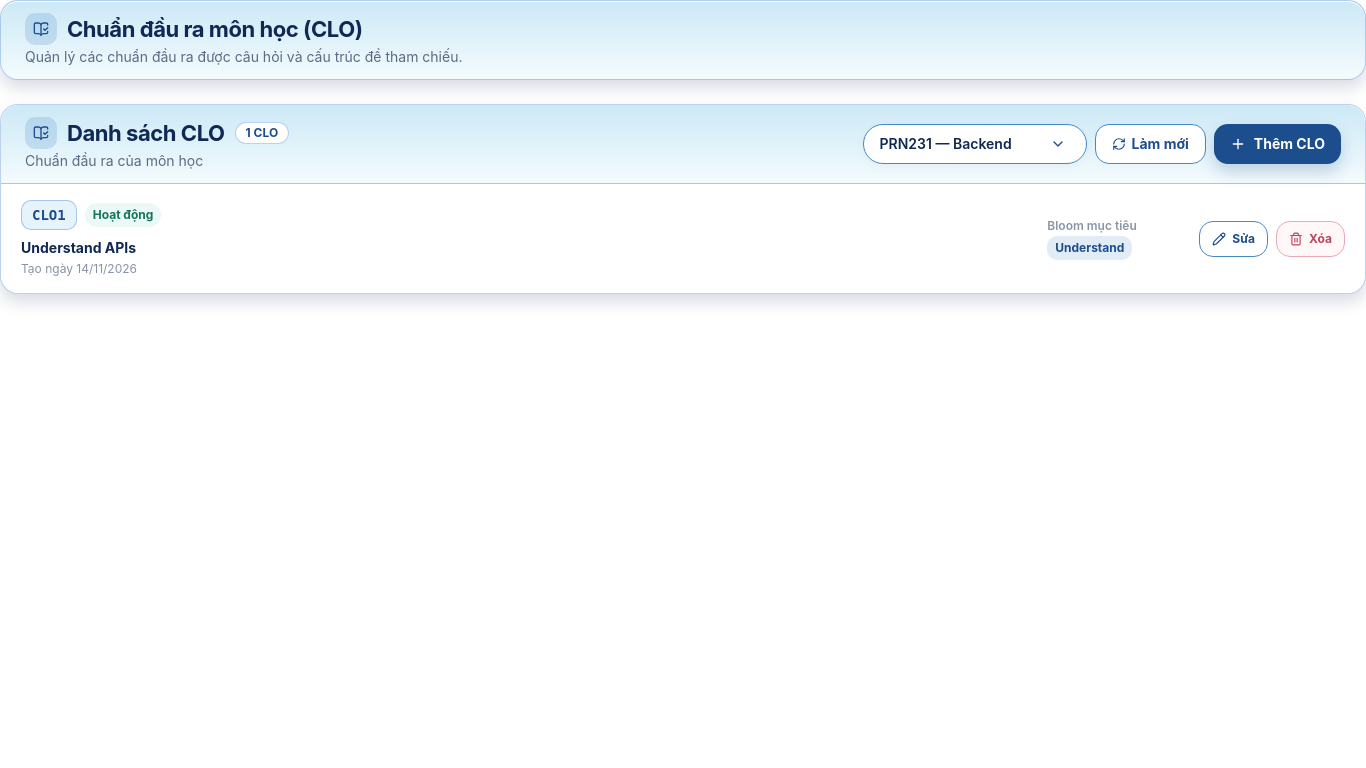
Test case: DepartmentCourseClosPage › rejects a case-insensitive duplicate before sending a request
Expected: the text "Understand APIs" is shown, [21,239,136,256]
Click the button "Thêm CLO": (1277, 144) [1214,124,1341,164]
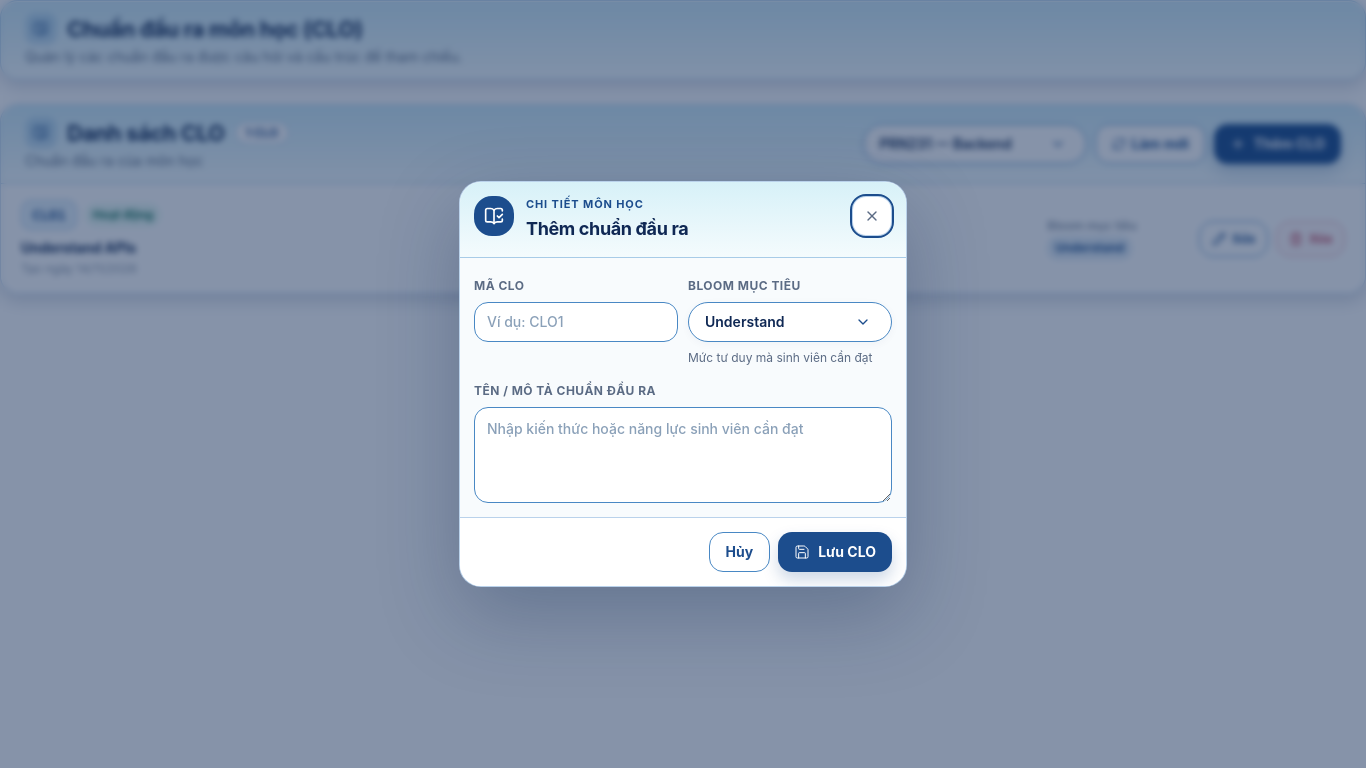
In the field labelled "Mã CLO": (576, 322) [474,302,678,342], type "clo1"
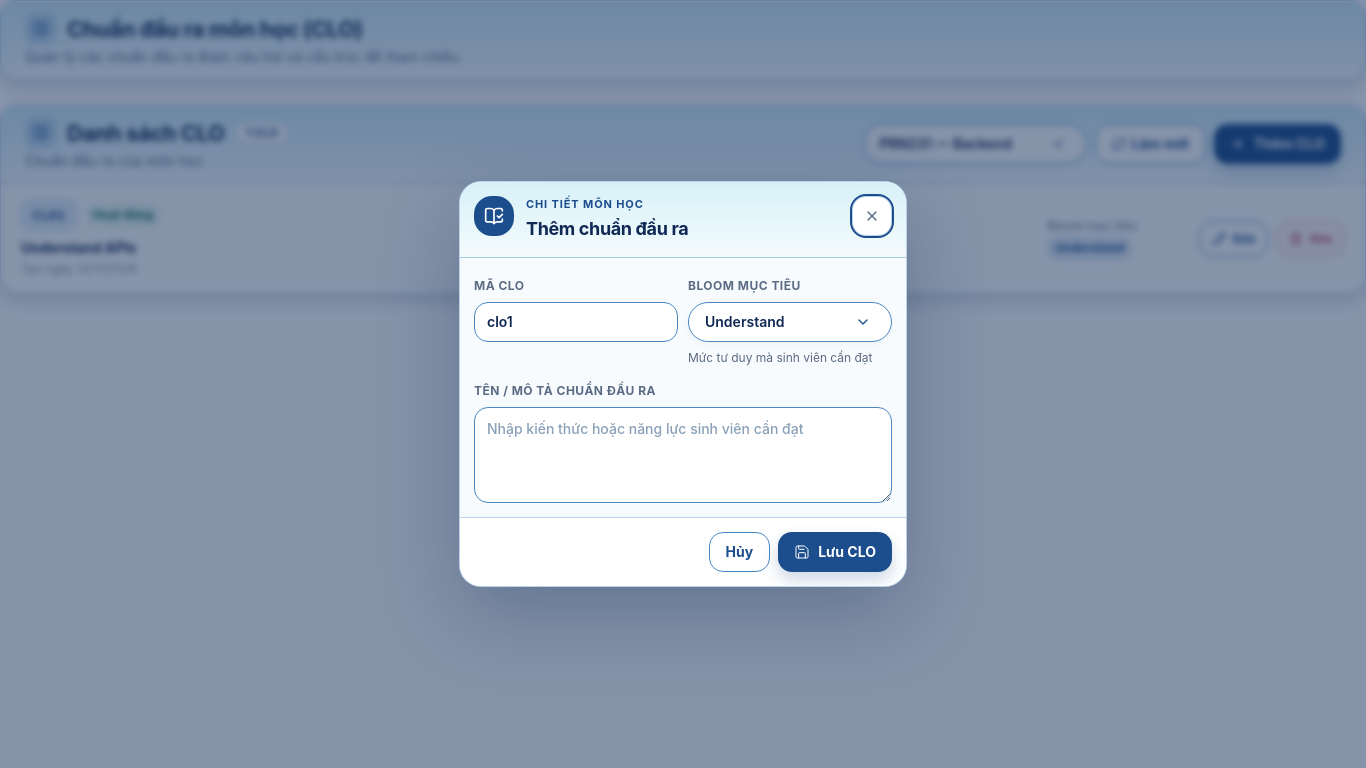
In the text box labelled "Tên / mô tả chuẩn đầu ra": (683, 455) [474,407,892,503], type "Duplicate outcome"
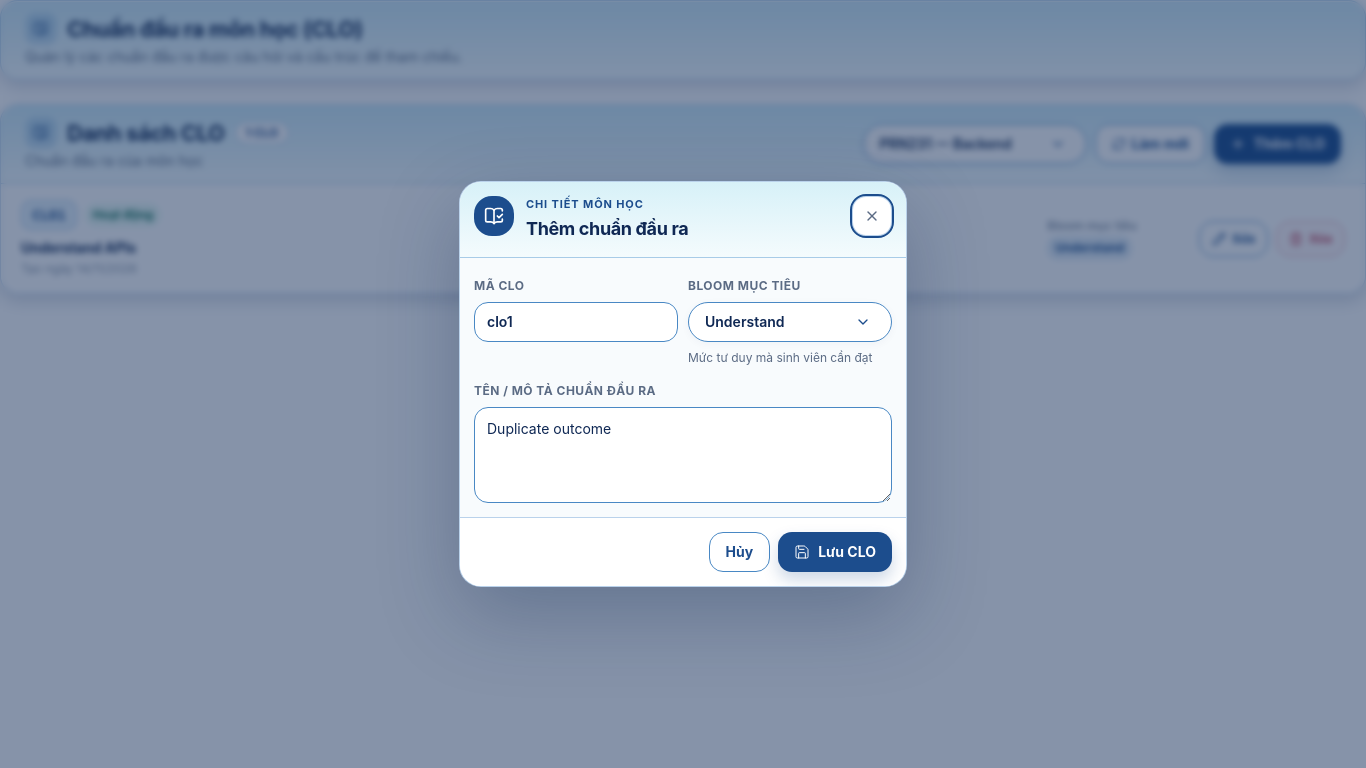
Click the button "Lưu CLO": (835, 552) [778,532,892,572]
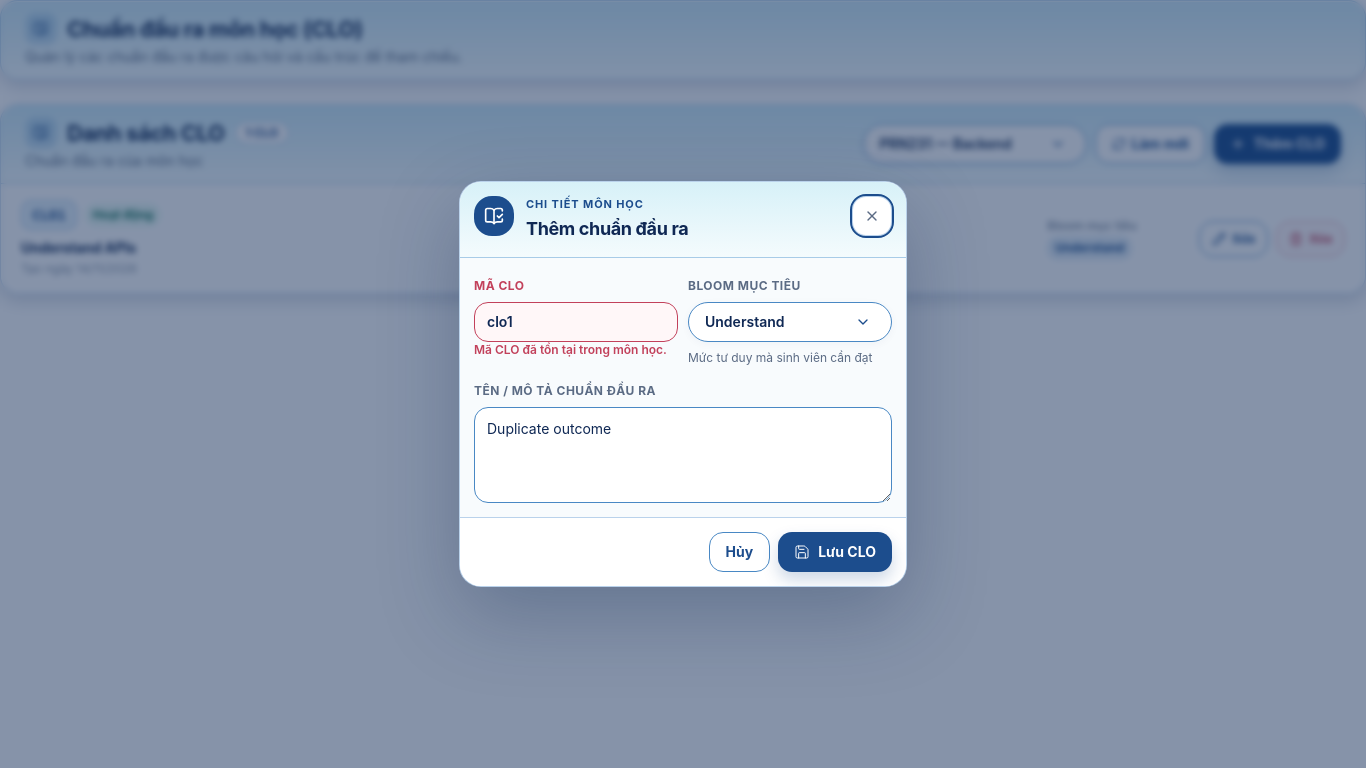
Now the message reads "Mã CLO đã tồn tại trong môn học.", box [474,342,667,356]
